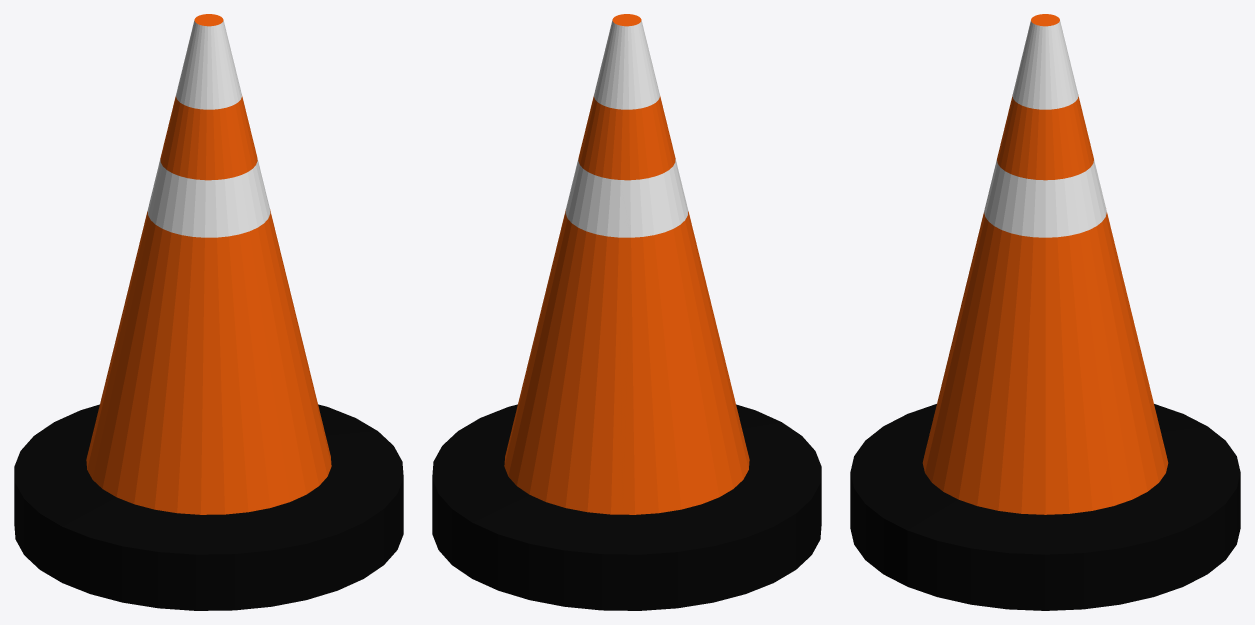
The model's file is warningcone.fbx.
The picture shows the model from 3 angles, left to right: view 1: azimuth 30°, elevation 25°; view 2: azimuth 150°, elevation 25°; view 3: azimuth 270°, elevation 25°; orthographic projection.
Parts seen in each view (by area): view 1: Cone; view 2: Cone; view 3: Cone.
Part boxes in pixels (x1,y1,x2,y2): Cone: (14,14,403,610); Cone: (432,14,821,610); Cone: (850,14,1240,610).
Size of the model in its own units: 453 by 651 by 453.
